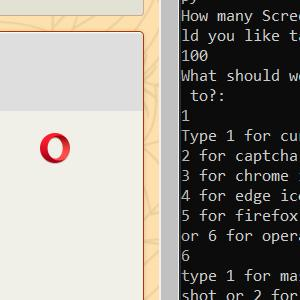opera: (40, 133, 70, 163)
